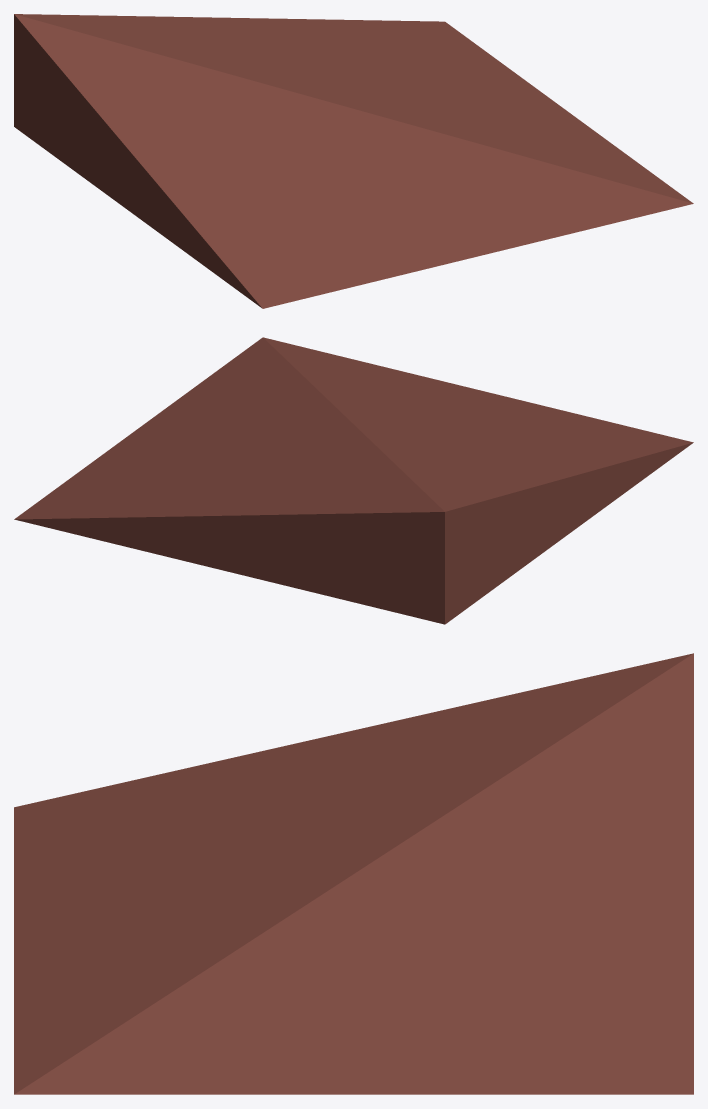
The model's file is Dirt_Large_Slope_Corner.glb.
3 views of the same model, one above another, from view 1: azimuth 30°, elevation 25°; view 2: azimuth 150°, elevation 25°; view 3: azimuth 270°, elevation 25° (orthographic). The views are drawn at different scales.
Parts seen in each view (by area): view 1: Dirt Large Slope Corner; view 2: Dirt Large Slope Corner; view 3: Dirt Large Slope Corner.
Part boxes in pixels (bbox=[...]): Dirt Large Slope Corner: bbox=[14, 14, 693, 308]; Dirt Large Slope Corner: bbox=[14, 337, 693, 624]; Dirt Large Slope Corner: bbox=[14, 653, 693, 1094].
Size of the model in its own units: 4 by 1 by 4.
1 material, 1 textured.
